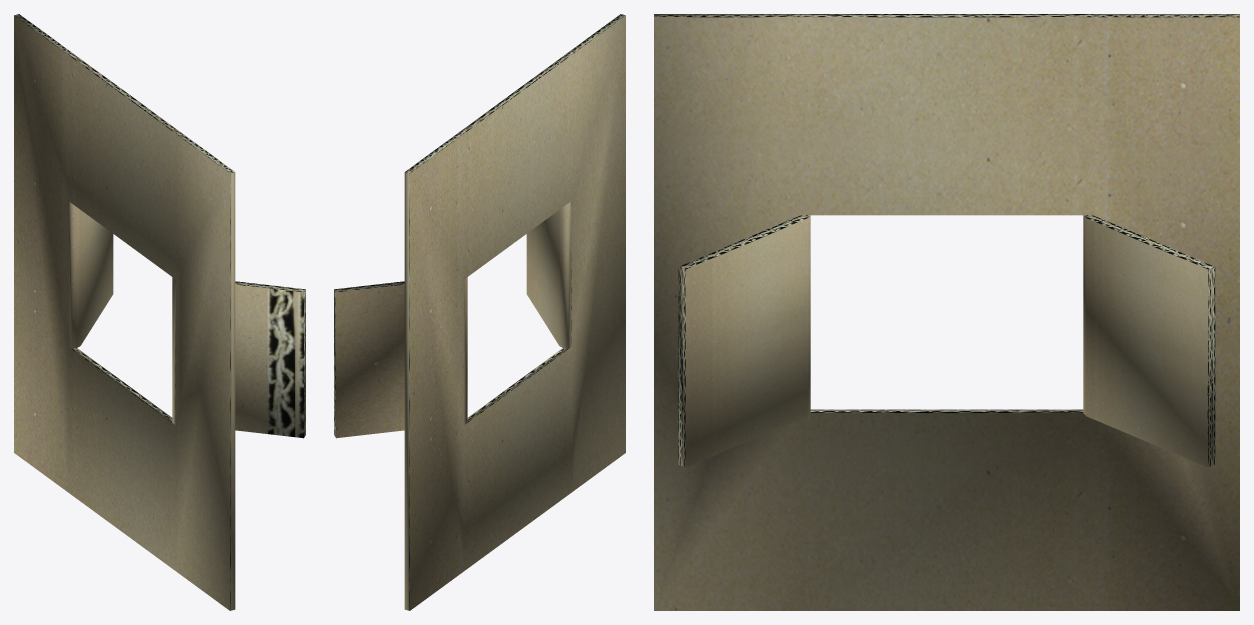
Rendered from wall_dannbo_02.FBX.
3 views of the same model, side by side, from view 1: azimuth 30°, elevation 25°; view 2: azimuth 150°, elevation 25°; view 3: azimuth 270°, elevation 25° (orthographic). The views are drawn at different scales.
Parts seen in each view (by area): view 1: wall_dannbo_02; view 2: wall_dannbo_02; view 3: wall_dannbo_02.
Part boxes in pixels (bbox=[...]): wall_dannbo_02: bbox=[14, 14, 305, 610]; wall_dannbo_02: bbox=[334, 14, 625, 610]; wall_dannbo_02: bbox=[654, 14, 1239, 610].
Bounding box in the file's own units: 19.91 × 95 × 85.
